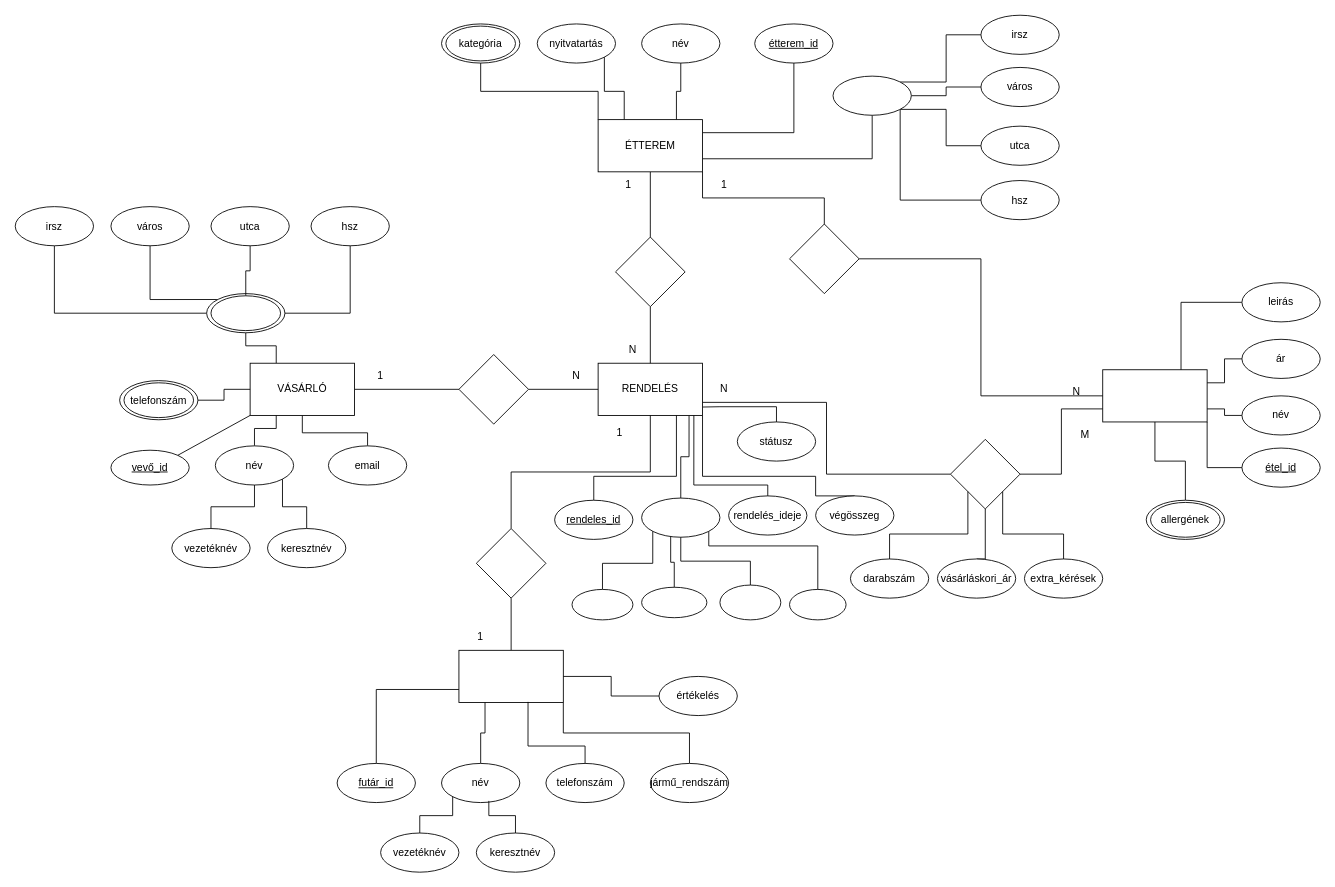
This 1335x887 diagram has some shape labels left out. Each missing label, with the centre of its shape:
cim: the point at 871,95
FUTÁR: the point at 510,676
kinál: the point at 824,258
lead: the point at 493,389
mentett_cimek: the point at 245,313
szállitás: the point at 510,563
szállitási_cim: the point at 680,517
tartalmaz: the point at 985,473
teljesit: the point at 650,271
ÉTEL: the point at 1154,395
